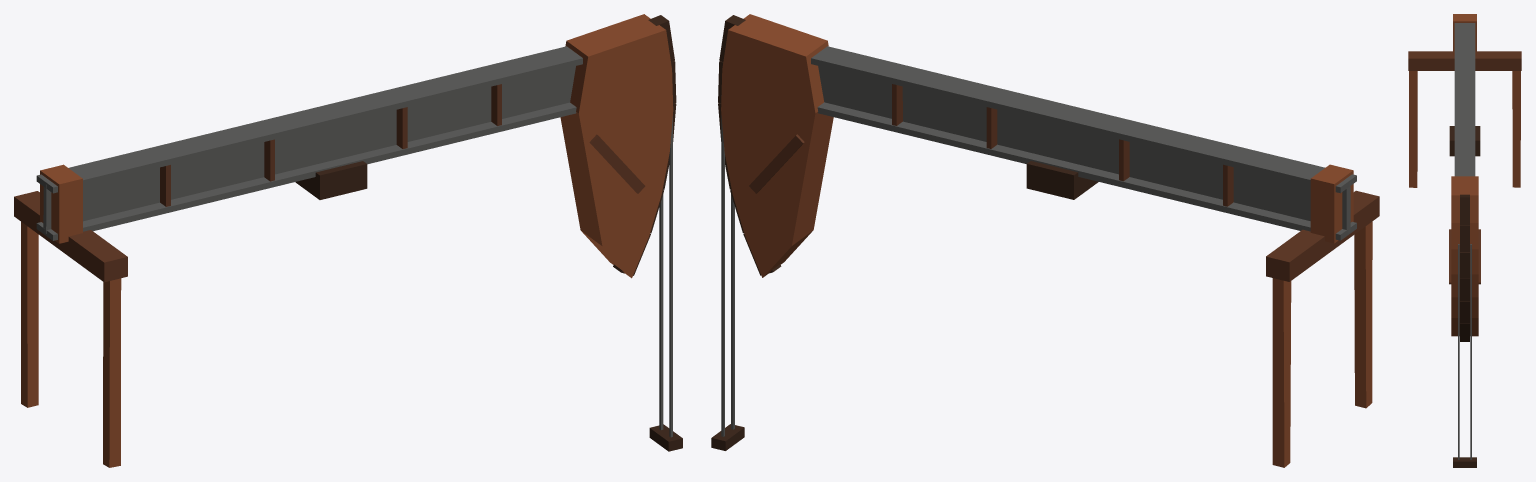
The model's file is pumpjack_beam.glb.
3 renders of one model, left to right at view 1: azimuth 30°, elevation 25°; view 2: azimuth 150°, elevation 25°; view 3: azimuth 270°, elevation 25°, orthographic. The views are drawn at different scales.
Parts seen in each view (by area): view 1: pumpjack_beam; view 2: pumpjack_beam; view 3: pumpjack_beam.
Part boxes in pixels (box(x1,y1,x2,y2)): pumpjack_beam: box(14, 14, 682, 467); pumpjack_beam: box(711, 14, 1379, 467); pumpjack_beam: box(1408, 14, 1521, 467).
Bounding box in the file's own units: 13.29 × 8.59 × 3.3.
